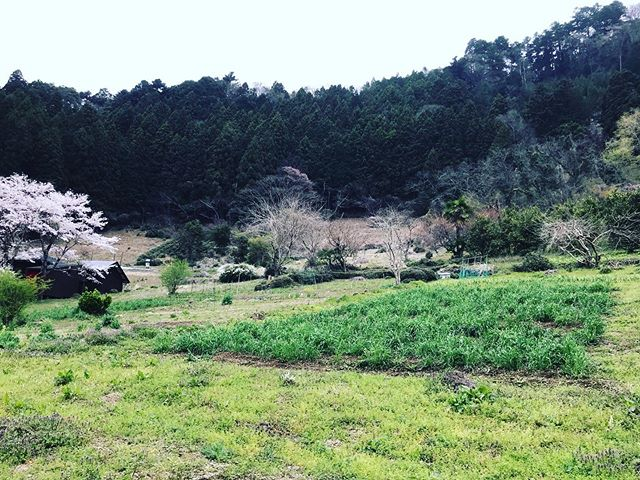grass: (8, 295, 627, 480)
sky: (1, 1, 437, 71)
vegetation: (1, 52, 640, 287)
